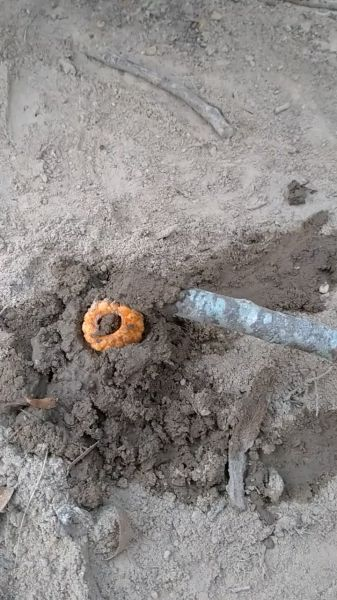eggs: (78, 294, 146, 354)
